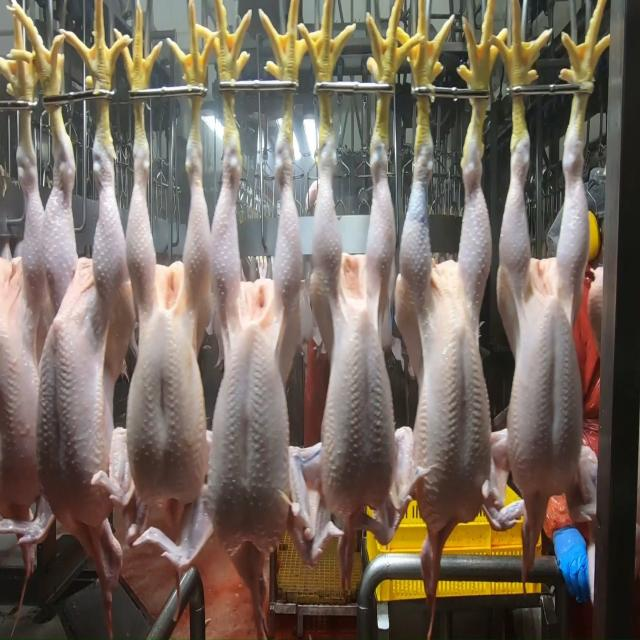chicken: (494, 132, 609, 504), (206, 137, 304, 556), (407, 118, 494, 542), (36, 130, 132, 513), (123, 144, 212, 548), (318, 132, 402, 530), (0, 130, 41, 561)
